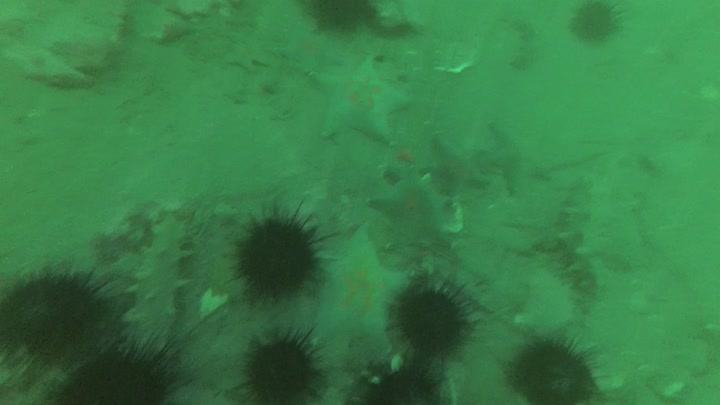echinus: (2, 268, 118, 375), (228, 205, 337, 305), (51, 330, 196, 405), (394, 276, 480, 368), (509, 334, 604, 405), (243, 328, 325, 405), (356, 365, 452, 405), (568, 1, 626, 45), (306, 1, 375, 35)
holothurian: (122, 214, 195, 347), (559, 173, 614, 299), (506, 16, 546, 73)
starfish: (311, 223, 412, 358), (370, 164, 466, 268), (311, 57, 412, 143), (483, 121, 553, 197), (423, 134, 490, 198), (276, 35, 346, 75), (380, 139, 433, 180), (226, 38, 272, 73), (145, 26, 192, 46), (167, 2, 210, 19)
